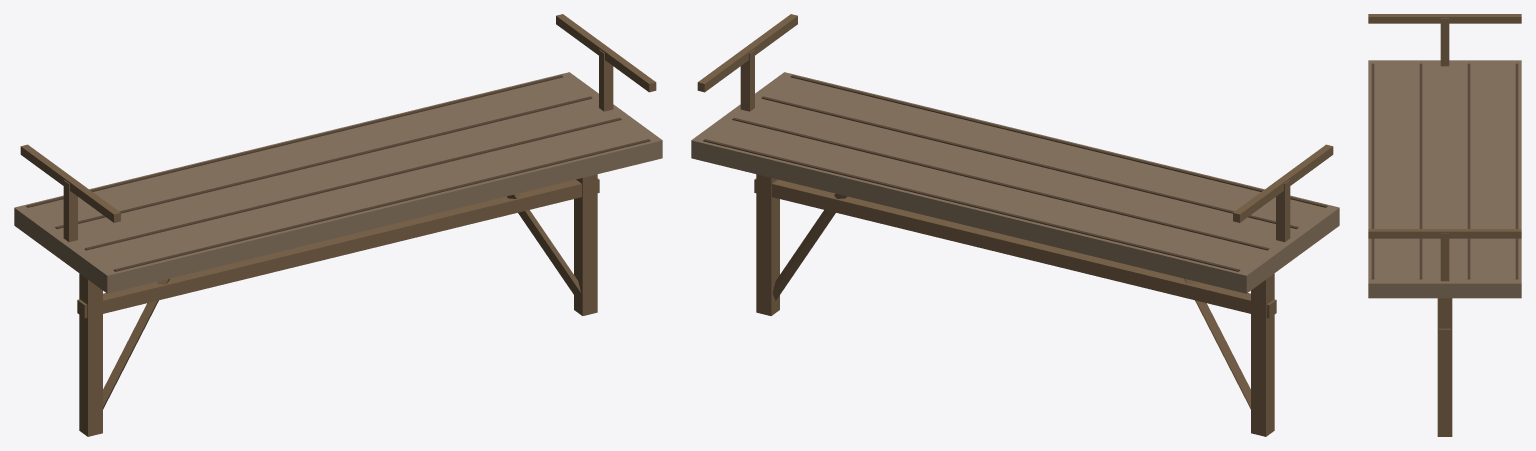
File: bridge_bay.glb
3 renders of one model, left to right at view 1: azimuth 30°, elevation 25°; view 2: azimuth 150°, elevation 25°; view 3: azimuth 270°, elevation 25°, orthographic. The views are drawn at different scales.
Visible parts, largest first — view 1: bridge_bay; view 2: bridge_bay; view 3: bridge_bay.
Part boxes in pixels (x1,y1,x2,y2): bridge_bay: [14, 14, 662, 436]; bridge_bay: [691, 14, 1339, 436]; bridge_bay: [1368, 14, 1521, 436].
Size of the model in its own units: 11 by 4.87 by 3.2.
